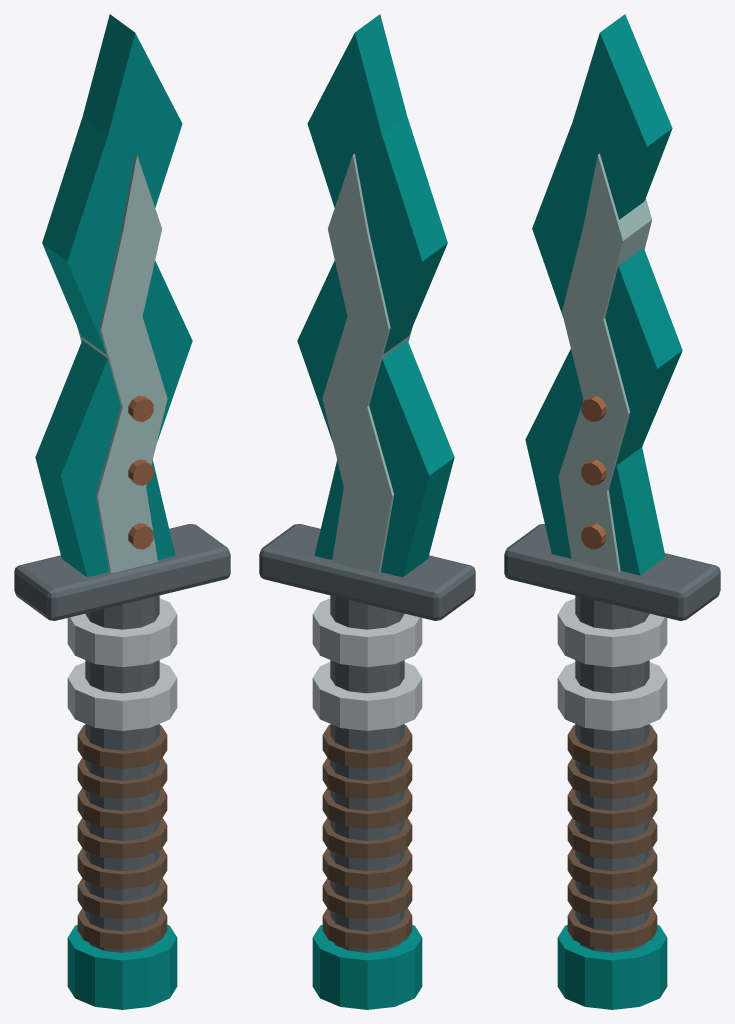
File: Kris.fbx
The picture shows the model from 3 angles, left to right: view 1: azimuth 30°, elevation 25°; view 2: azimuth 150°, elevation 25°; view 3: azimuth 330°, elevation 25°; orthographic projection.
Visible parts, largest first — view 1: Silhouette.001, Noyau.001, Manche.001, Garde.001, Pommeau.001, Collier.002, Collier.003, Bande_06.001, Bande_02.001, Bande_01.001, Bande_05.001, Bande_04.001 (+5 smaller); view 2: Silhouette.001, Noyau.001, Manche.001, Garde.001, Pommeau.001, Collier.002, Collier.003, Bande_06.001, Bande_02.001, Bande_01.001, Bande_05.001, Bande_04.001 (+2 smaller); view 3: Silhouette.001, Noyau.001, Manche.001, Garde.001, Pommeau.001, Collier.002, Collier.003, Bande_06.001, Bande_02.001, Bande_01.001, Bande_05.001, Bande_04.001 (+5 smaller).
Part boxes in pixels (x1,y1,x2,y2): Silhouette.001: [35, 14, 192, 577]; Noyau.001: [77, 153, 167, 573]; Manche.001: [85, 595, 159, 952]; Garde.001: [14, 524, 230, 620]; Pommeau.001: [67, 925, 177, 1009]; Collier.002: [67, 662, 177, 730]; Collier.003: [67, 598, 177, 667]; Bande_06.001: [77, 725, 167, 768]; Bande_02.001: [77, 848, 167, 889]; Bande_01.001: [77, 878, 167, 919]; Bande_05.001: [77, 757, 167, 798]; Bande_04.001: [77, 788, 167, 828]; Silhouette.001: [297, 14, 454, 577]; Noyau.001: [322, 153, 412, 573]; Manche.001: [330, 595, 404, 952]; Garde.001: [259, 524, 475, 620]; Pommeau.001: [312, 925, 422, 1009]; Collier.002: [312, 662, 422, 730]; Collier.003: [312, 598, 422, 667]; Bande_06.001: [322, 725, 412, 768]; Bande_02.001: [322, 848, 412, 889]; Bande_01.001: [322, 878, 412, 919]; Bande_05.001: [322, 757, 412, 798]; Bande_04.001: [322, 788, 412, 828]; Silhouette.001: [525, 14, 682, 575]; Noyau.001: [558, 153, 652, 572]; Manche.001: [575, 595, 649, 952]; Garde.001: [504, 524, 720, 620]; Pommeau.001: [557, 925, 667, 1009]; Collier.002: [557, 662, 667, 730]; Collier.003: [557, 598, 667, 667]; Bande_06.001: [567, 725, 657, 768]; Bande_02.001: [567, 848, 657, 889]; Bande_01.001: [567, 878, 657, 919]; Bande_05.001: [567, 757, 657, 798]; Bande_04.001: [567, 788, 657, 828].
Bounding box in the file's own units: 54 × 272 × 28.
